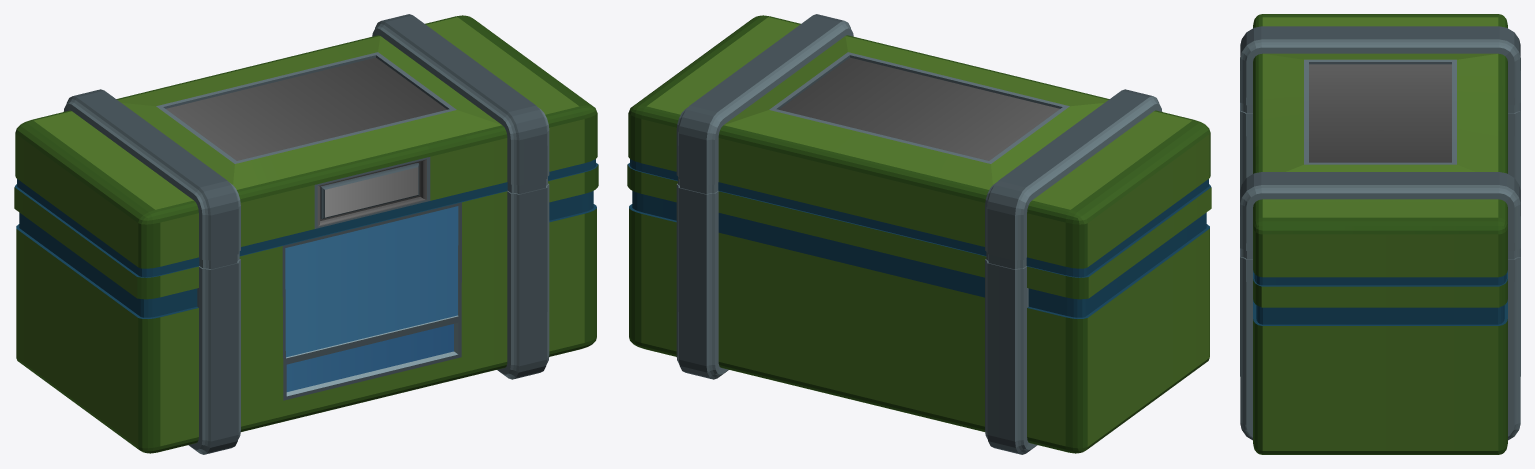
Rendered from Future Large Crate Green.fbx.
3 renders of one model, left to right at view 1: azimuth 30°, elevation 25°; view 2: azimuth 150°, elevation 25°; view 3: azimuth 270°, elevation 25°, orthographic. The views are drawn at different scales.
Visible parts, largest first — view 1: Future Large Crate Green; view 2: Future Large Crate Green; view 3: Future Large Crate Green.
Part boxes in pixels (<box>): Future Large Crate Green: <box>14,14,598,454</box>; Future Large Crate Green: <box>627,14,1211,454</box>; Future Large Crate Green: <box>1240,14,1520,454</box>.
Size of the model in its own units: 333 by 329 by 604.
Materials: 1 (1 with a texture image).
